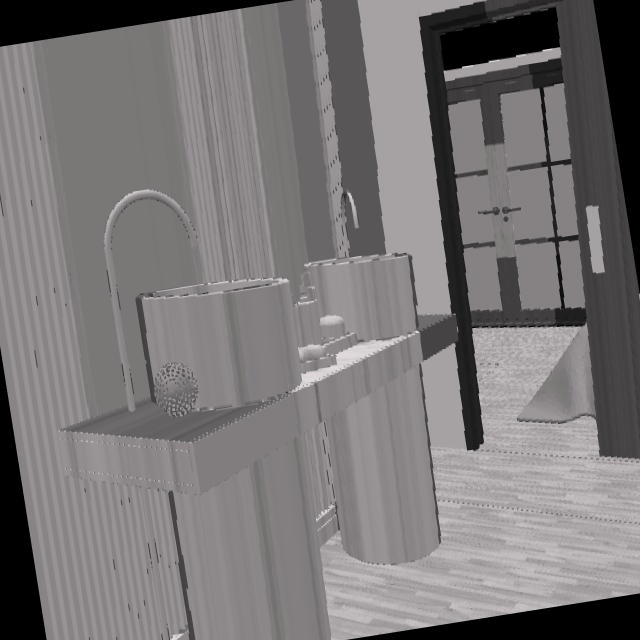shelf: (59, 316, 458, 494)
washbasin: (137, 279, 301, 408), (105, 189, 197, 410), (310, 182, 418, 340)
